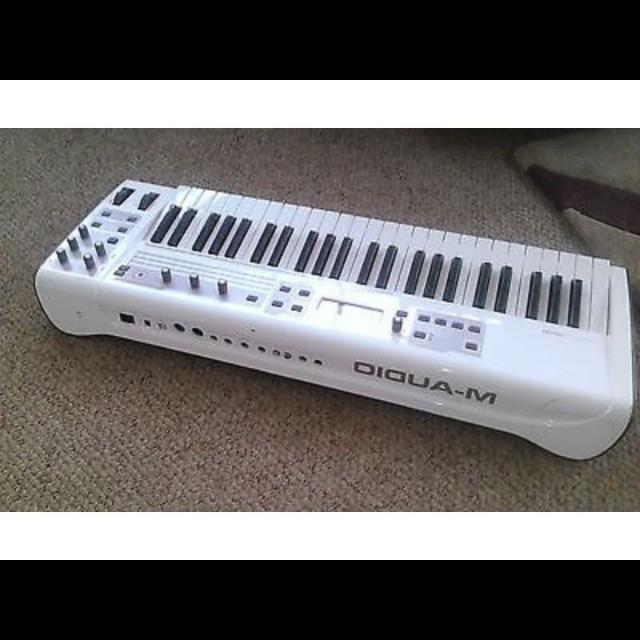Electronic-Keyboard: (28, 160, 632, 472)
